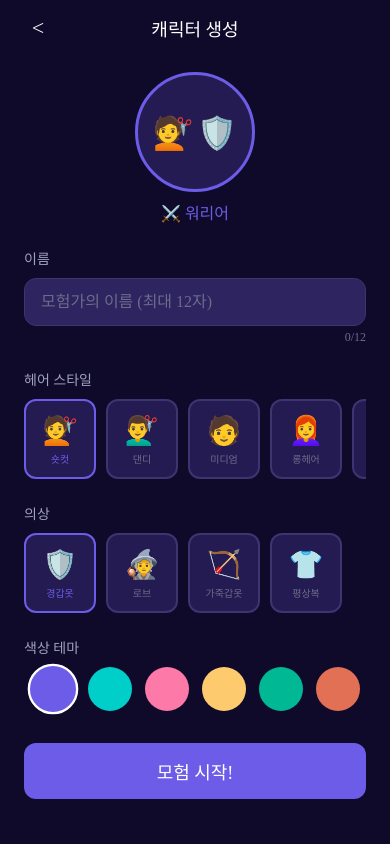
Test: CharacterCreateScreen › name input › accepts text and shows character count
The width and height of the screenshot is (390, 844).
Expected: the text "0/12" is shown, [345,330,366,344]
Type "용사" into the field with placeholder "모험가의 이름 (최대 12자)" at [195, 302], box [24,278,366,326]
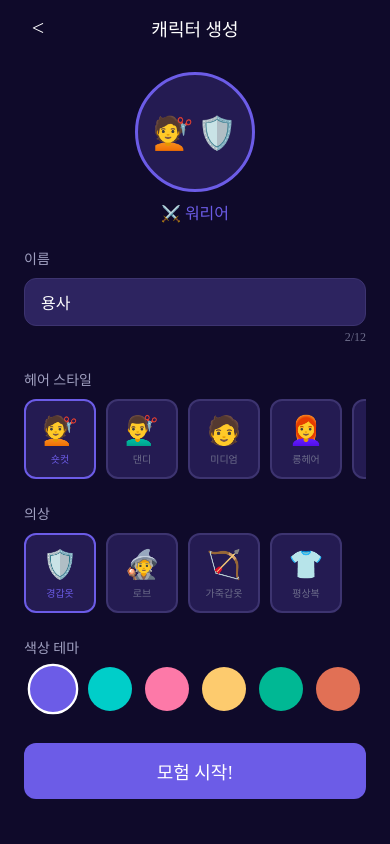
Result: the text "2/12" is shown at [345,330,366,344]
